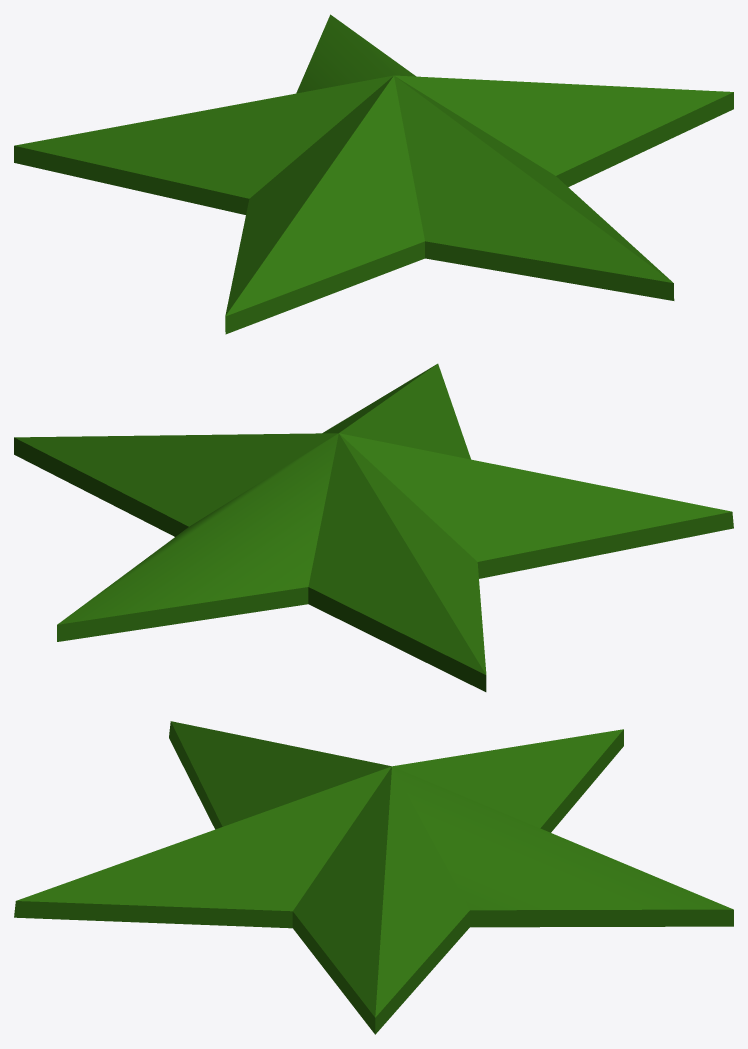
File: star_green_prototype.fbx
The picture shows the model from 3 angles, top to bottom: view 1: azimuth 30°, elevation 25°; view 2: azimuth 150°, elevation 25°; view 3: azimuth 270°, elevation 25°; orthographic projection.
Parts seen in each view (by area): view 1: Box014; view 2: Box014; view 3: Box014.
Boxes of the visible parts, x1,y1,x2,y2 form: Box014: (14, 14, 733, 334); Box014: (14, 363, 733, 691); Box014: (14, 721, 733, 1034).
Size of the model in its own units: 8.82 by 1.49 by 9.04.
